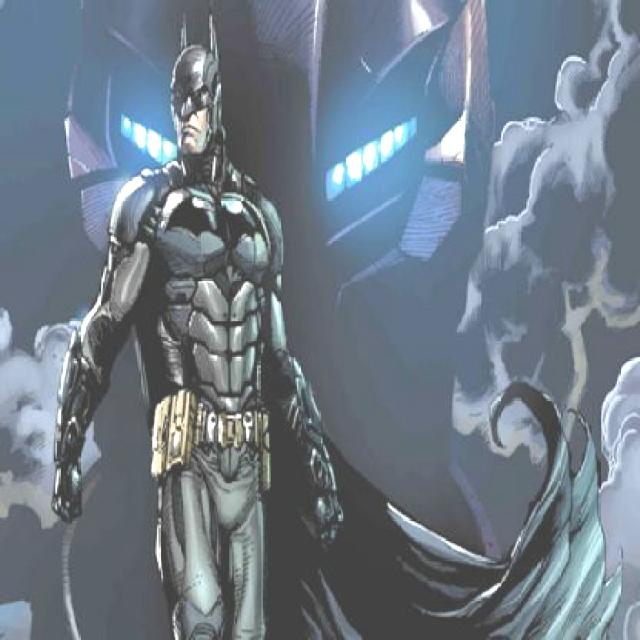Person: (50, 11, 347, 638)
